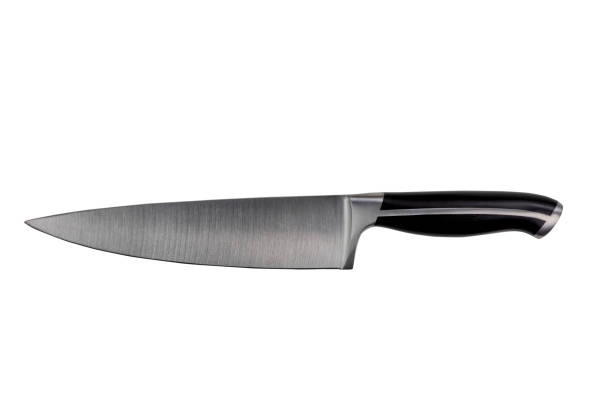knife: (18, 188, 565, 272)
